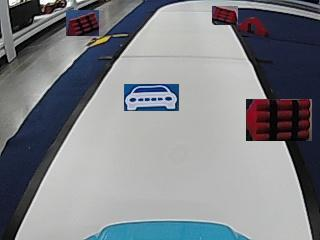bridge: (239, 17, 269, 36)
